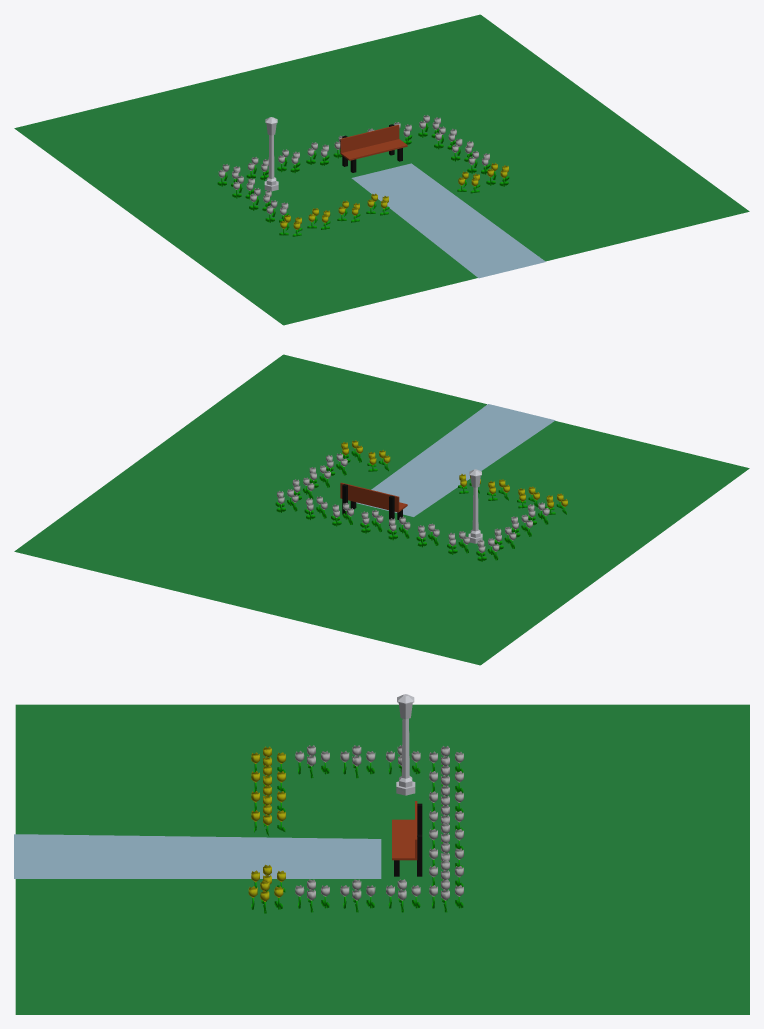
3 views of the same model, one above another, from view 1: azimuth 30°, elevation 25°; view 2: azimuth 150°, elevation 25°; view 3: azimuth 270°, elevation 25° (orthographic). The views are drawn at different scales.
Visible parts, largest first — view 1: Cylinder_Cylinder.002; view 2: Cylinder_Cylinder.002; view 3: Cylinder_Cylinder.002.
Part boxes in pixels (x1,y1,x2,y2): Cylinder_Cylinder.002: (14, 14, 749, 325); Cylinder_Cylinder.002: (14, 354, 749, 665); Cylinder_Cylinder.002: (14, 694, 749, 1014).
Size of the model in its own units: 16 by 2.4 by 16.04.
